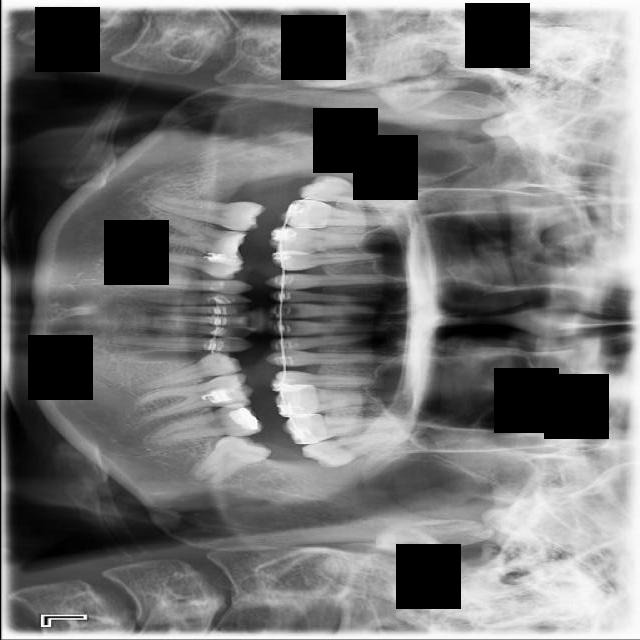3M ESPE Implant: (297, 172, 427, 215)
52: (212, 399, 263, 441), (202, 225, 248, 267), (280, 410, 328, 449), (277, 198, 332, 231), (272, 383, 320, 419)
73: (50, 580, 59, 586)
BioHorizons Implant: (280, 407, 410, 446)
BioLife Implant: (298, 419, 420, 475)
Biomet 3i Implant: (184, 419, 274, 493)
Blue Sky Bio Implant: (145, 401, 263, 447)
Caries: (278, 198, 416, 236)
Implant: (146, 193, 265, 234)
